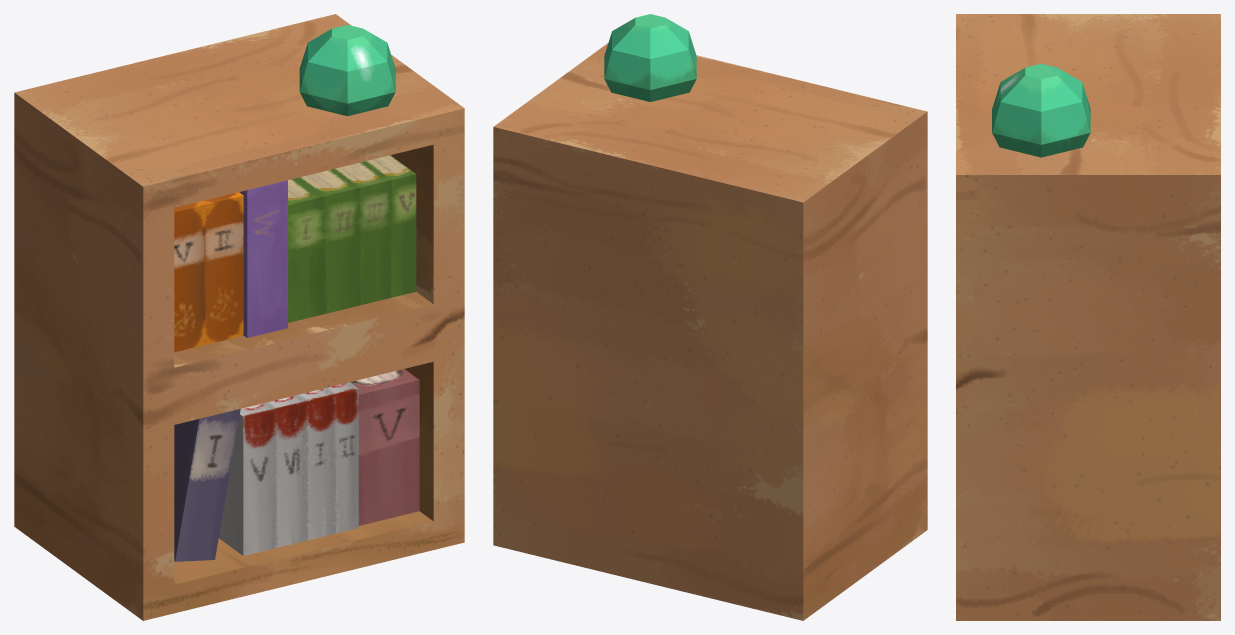
Rendered from Bookshelf.FBX.
The picture shows the model from 3 angles, left to right: view 1: azimuth 30°, elevation 25°; view 2: azimuth 150°, elevation 25°; view 3: azimuth 270°, elevation 25°; orthographic projection. The views are drawn at different scales.
Parts seen in each view (by area): view 1: Bookshelf; view 2: Bookshelf; view 3: Bookshelf.
Boxes of the visible parts, bbox=[...] form: Bookshelf: bbox=[14, 14, 464, 620]; Bookshelf: bbox=[493, 14, 927, 620]; Bookshelf: bbox=[956, 14, 1220, 620].
Bounding box in the file's own units: 82.77 × 123 × 57.47.
